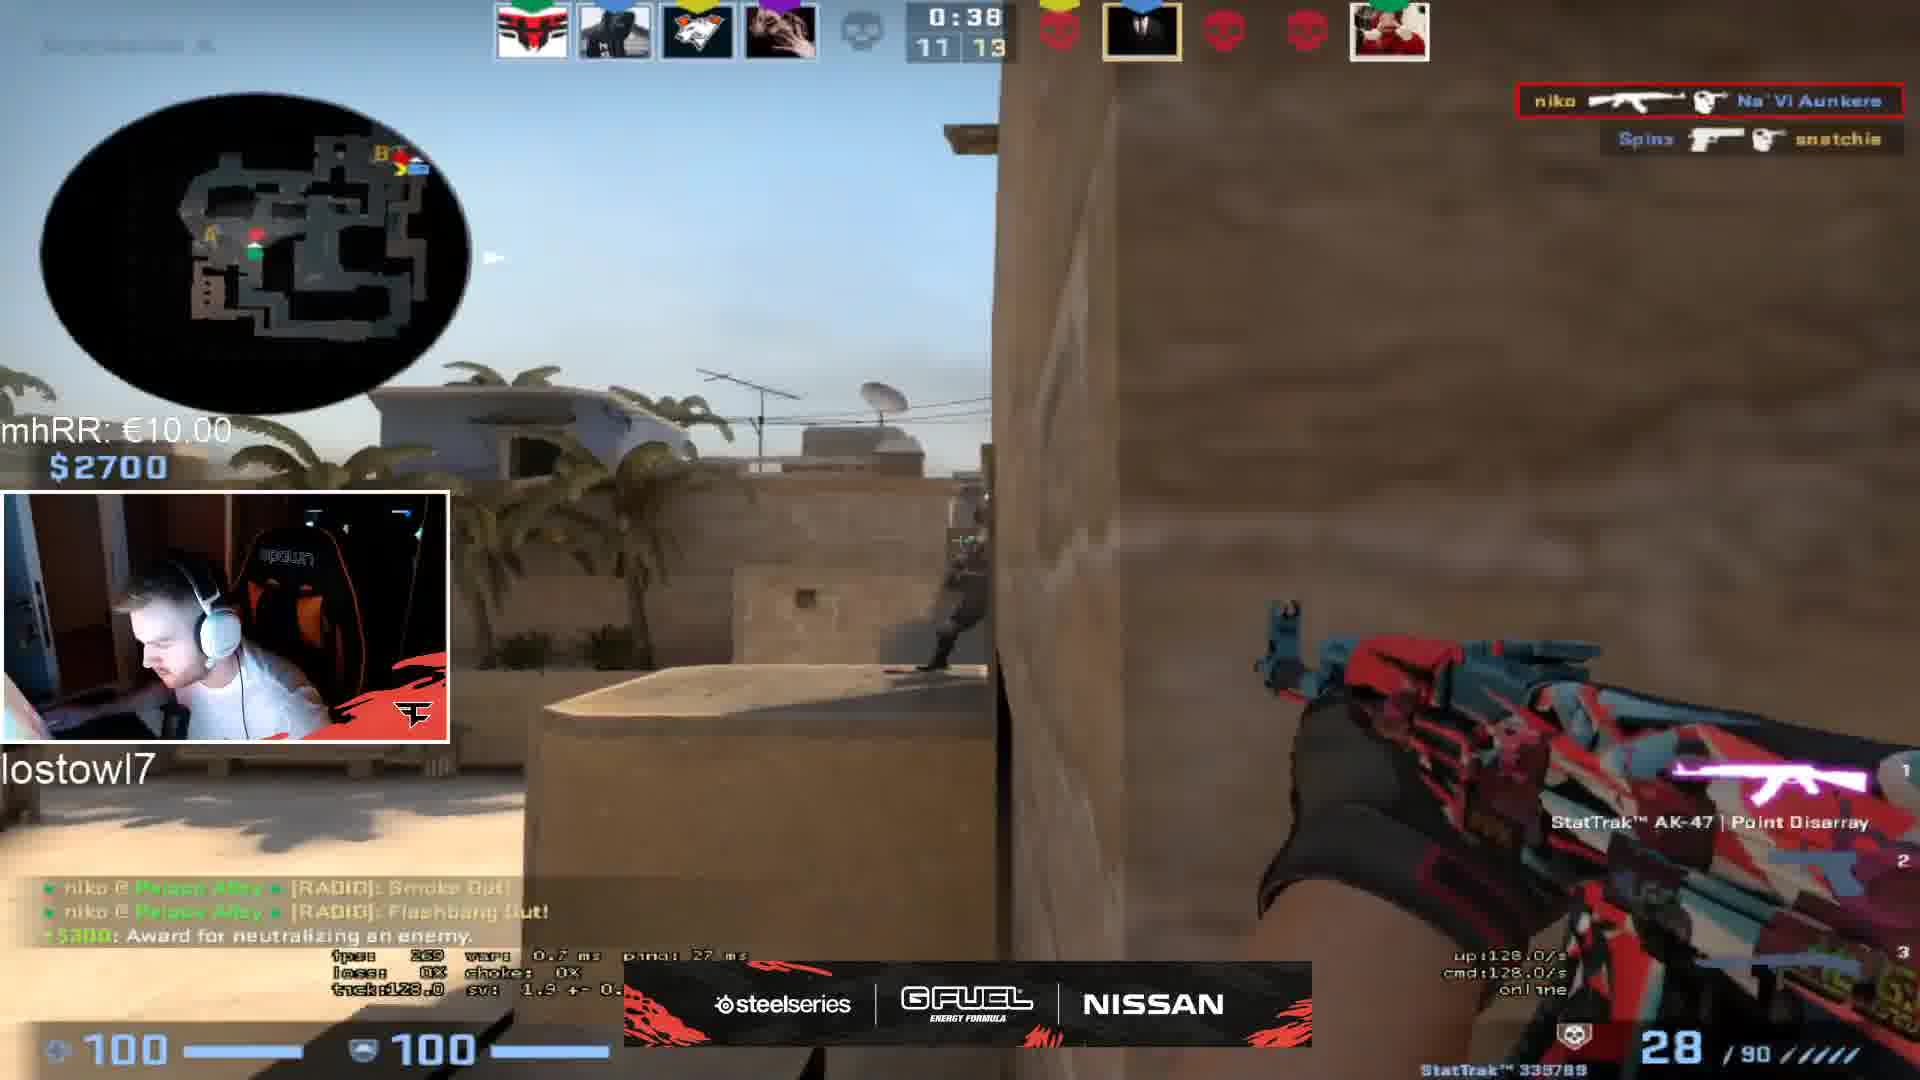enemy: (916, 531, 998, 686)
